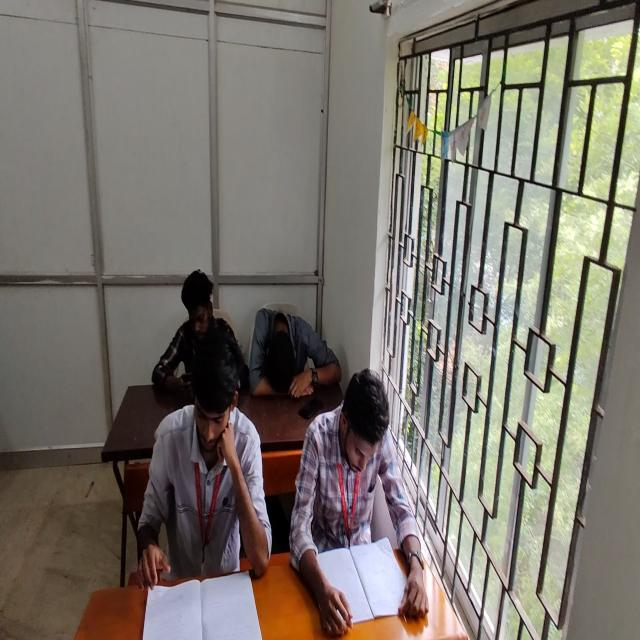reading: (133, 328, 273, 596), (289, 367, 412, 633)
sleeping: (250, 306, 341, 399)
using_mobile: (152, 268, 247, 396)
